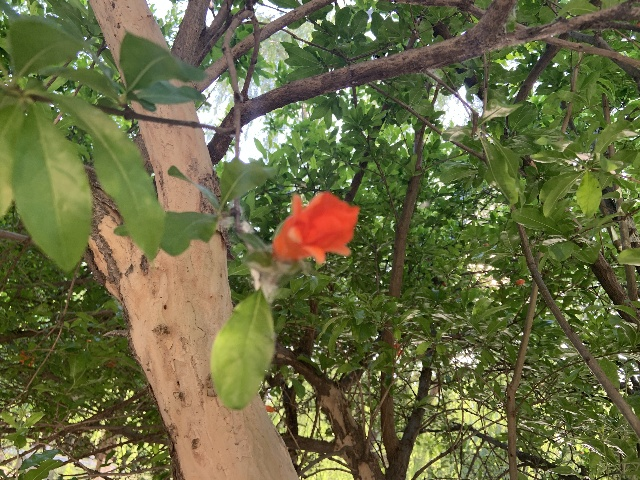bud: (514, 279, 524, 285)
flower: (271, 190, 358, 264), (393, 343, 402, 356)
